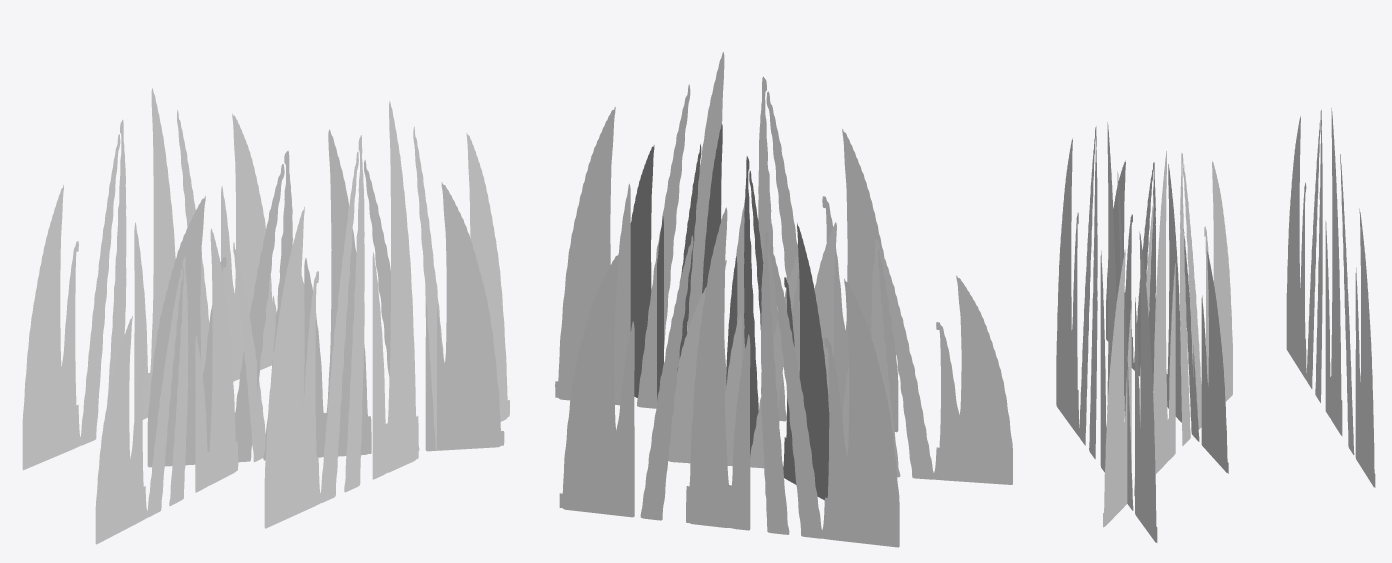
Rendered from Grass_00.fbx.
The picture shows the model from 3 angles, left to right: view 1: azimuth 30°, elevation 25°; view 2: azimuth 150°, elevation 25°; view 3: azimuth 270°, elevation 25°; orthographic projection. The views are drawn at different scales.
Visible parts, largest first — view 1: Grass_00; view 2: Grass_00; view 3: Grass_00.
Part boxes in pixels (left/top/right/bottom): Grass_00: left=22, top=88, right=509, bottom=544; Grass_00: left=555, top=52, right=1012, bottom=547; Grass_00: left=1056, top=108, right=1375, bottom=542.
Size of the model in its own units: 51.88 by 42.38 by 33.26.
Materials: 1 (1 with a texture image).
